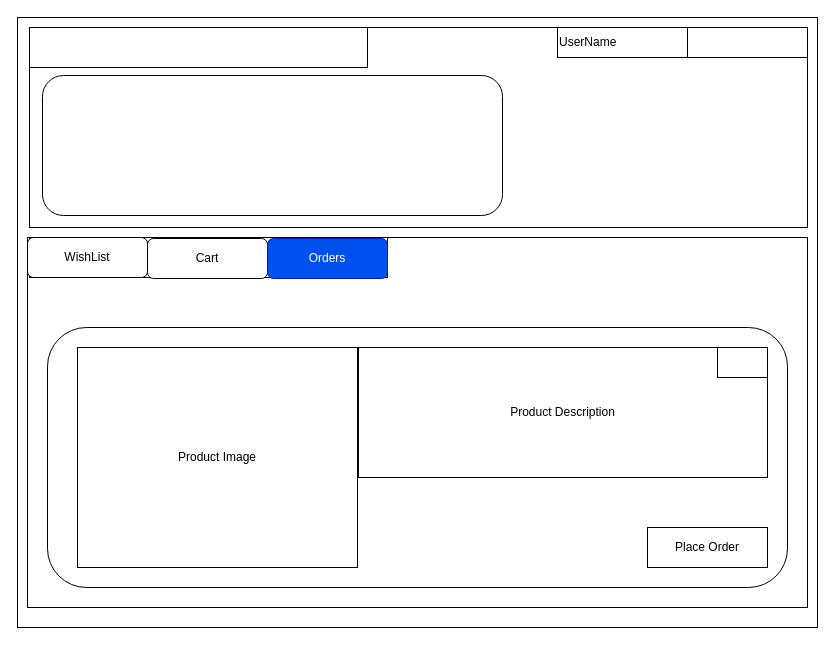
Some shapes in this 835 by 645 pixel diagram are drawn without their labels. Each missing label, with the centre of its shape:
"Address" belongs at [272,145].
"Logout" belongs at [747,42].
"Profile Page" belongs at [198,47].
"Remove" belongs at [742,362].
